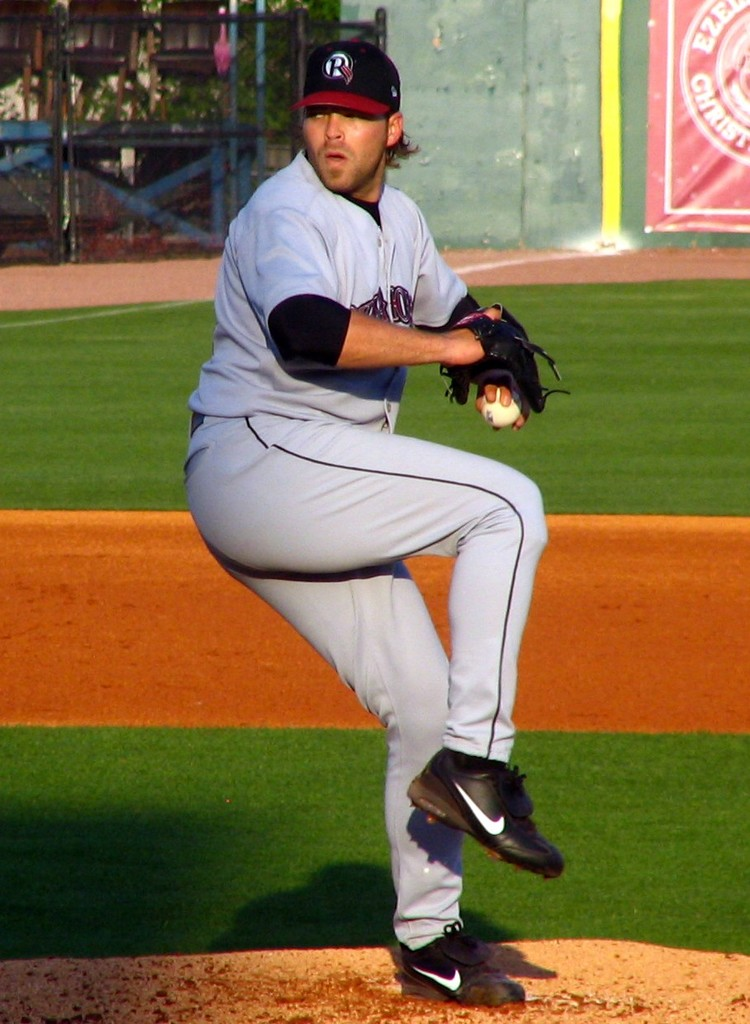Footwear: (410, 755, 557, 892), (397, 920, 524, 1004)
